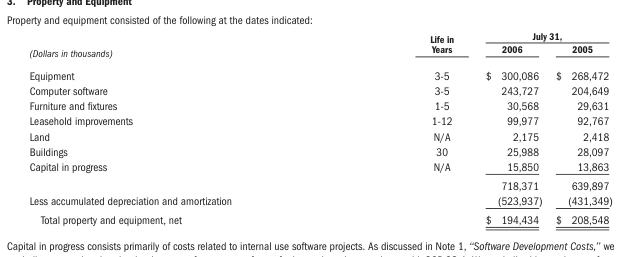table: (28, 29, 611, 225)
table column: (28, 29, 330, 225), (330, 29, 468, 225), (468, 29, 548, 225), (548, 29, 611, 225)
table column header: (28, 29, 611, 63)
table row: (28, 42, 611, 63), (28, 63, 611, 82), (28, 158, 611, 175), (28, 175, 611, 192), (28, 192, 611, 209), (28, 82, 611, 98), (28, 209, 611, 225), (28, 98, 611, 113), (28, 113, 611, 128), (28, 128, 611, 143), (28, 143, 611, 158), (28, 29, 611, 42)
table spanning cell: (28, 29, 330, 63), (330, 29, 468, 63), (468, 29, 611, 42)
